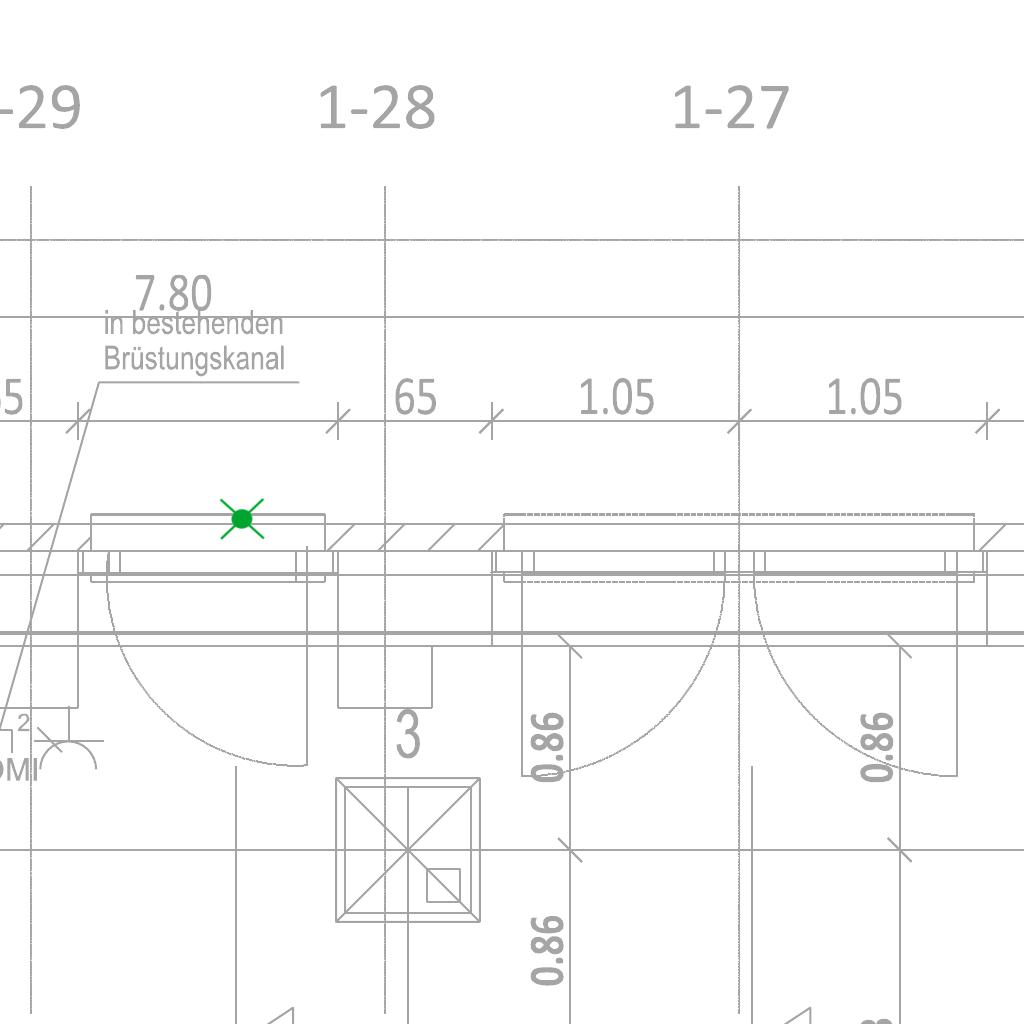Notlichtbaustein_in_Allgemeinbeleuchtug_engebaut_Einbau_(1UG_und_2UG_Aufbauvaria: (217, 494, 267, 545)
